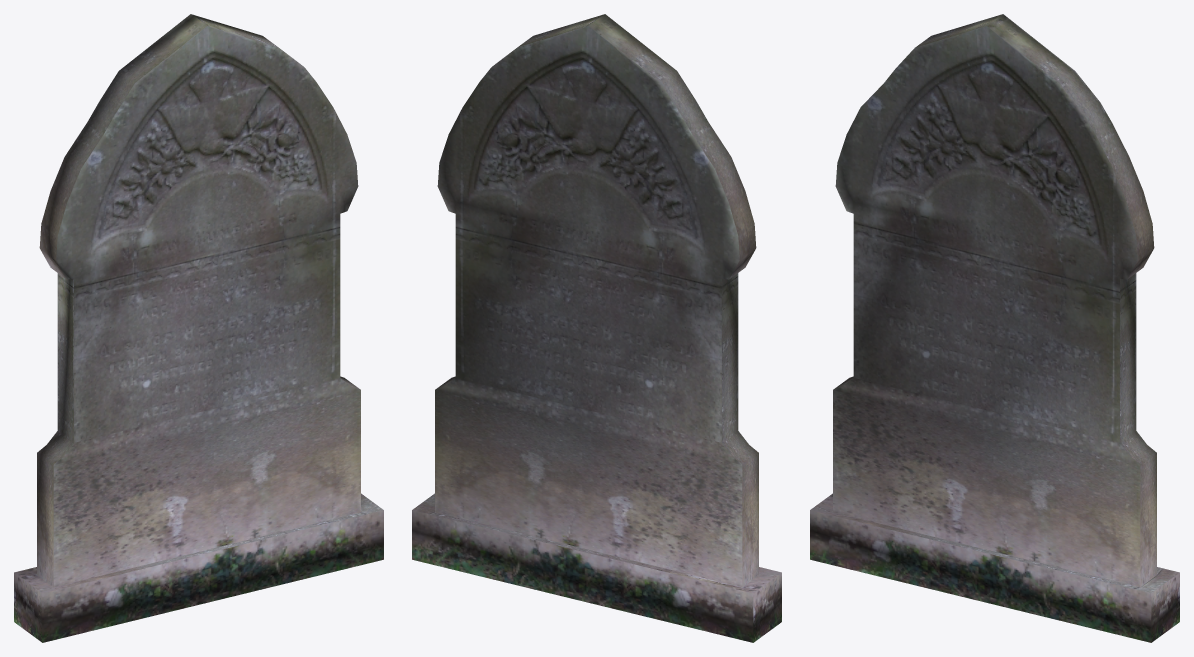
The model's file is gravestoneI.fbx.
The picture shows the model from 3 angles, left to right: view 1: azimuth 30°, elevation 25°; view 2: azimuth 150°, elevation 25°; view 3: azimuth 330°, elevation 25°; orthographic projection.
Visible parts, largest first — view 1: U3DMesh; view 2: U3DMesh; view 3: U3DMesh.
Boxes of the visible parts, box(x1,y1,x2,y2) form: U3DMesh: box(14, 14, 383, 642); U3DMesh: box(412, 14, 781, 642); U3DMesh: box(810, 14, 1179, 642).
Bounding box in the file's own units: 29.82 × 47.66 × 4.33.
